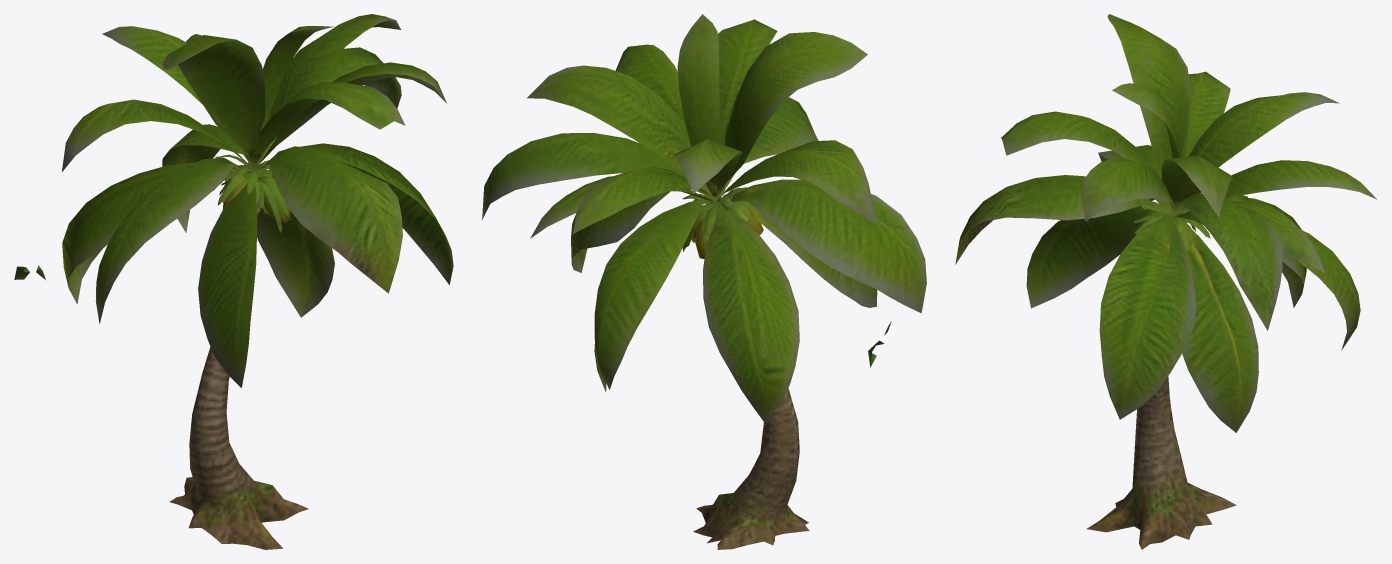
Rendered from 03_Palem_Lengkung.glb.
The picture shows the model from 3 angles, left to right: view 1: azimuth 30°, elevation 25°; view 2: azimuth 150°, elevation 25°; view 3: azimuth 270°, elevation 25°; orthographic projection. The views are drawn at different scales.
Visible parts, largest first — view 1: 03_Palem_Lengkung; view 2: 03_Palem_Lengkung; view 3: 03_Palem_Lengkung.
Part boxes in pixels (x1,y1,x2,y2): 03_Palem_Lengkung: [14, 14, 453, 549]; 03_Palem_Lengkung: [482, 14, 926, 549]; 03_Palem_Lengkung: [955, 14, 1376, 549].
Bounding box in the file's own units: 2.9 × 3.6 × 2.87.
1 material, 1 textured.
